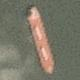ship: (0, 0, 22, 79)
